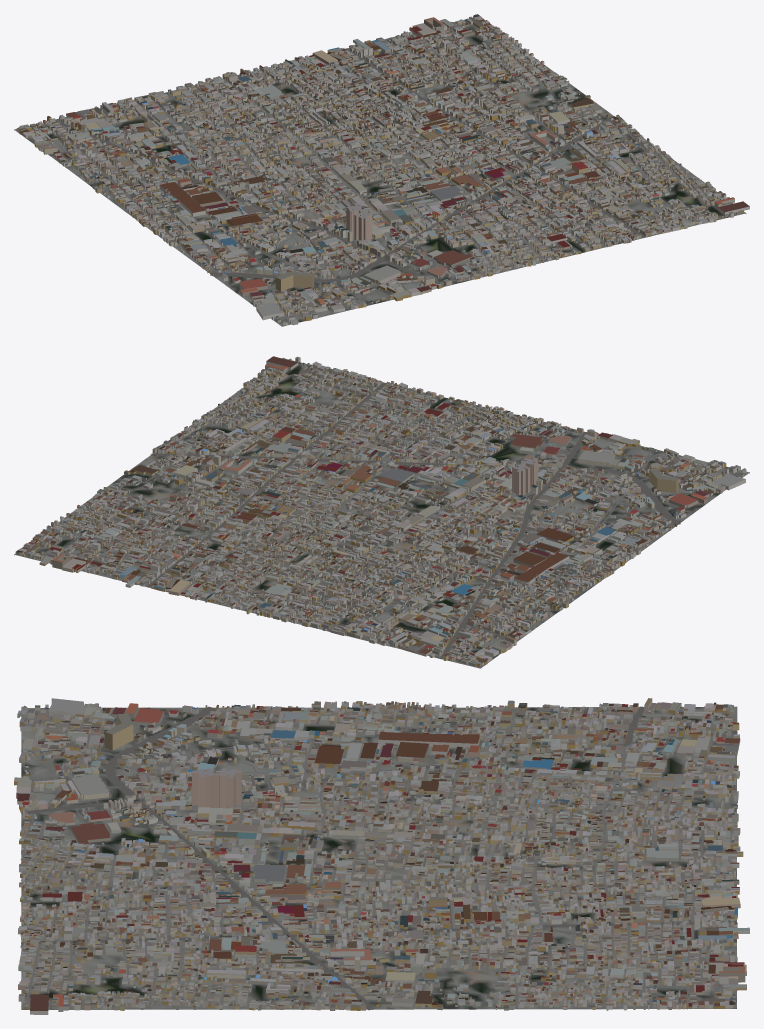
3 renders of one model, top to bottom at view 1: azimuth 30°, elevation 25°; view 2: azimuth 150°, elevation 25°; view 3: azimuth 270°, elevation 25°, orthographic. The views are drawn at different scales.
Visible parts, largest first — view 1: buildings, ground, roads; view 2: buildings, ground, roads; view 3: buildings, ground, roads.
Boxes of the visible parts, <box> form: buildings: <box>16,14,749,325</box>; ground: <box>14,19,746,326</box>; roads: <box>15,27,745,325</box>; buildings: <box>15,356,746,667</box>; ground: <box>14,359,749,668</box>; roads: <box>35,359,747,668</box>; buildings: <box>14,698,749,1014</box>; ground: <box>21,706,737,1009</box>; roads: <box>20,706,737,1010</box>.
Size of the model in its own units: 1444 by 74.76 by 1440.
